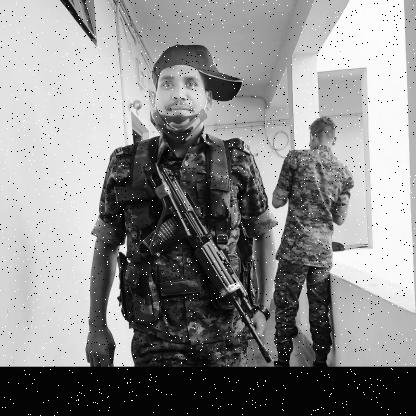rifle: (111, 159, 275, 365)
